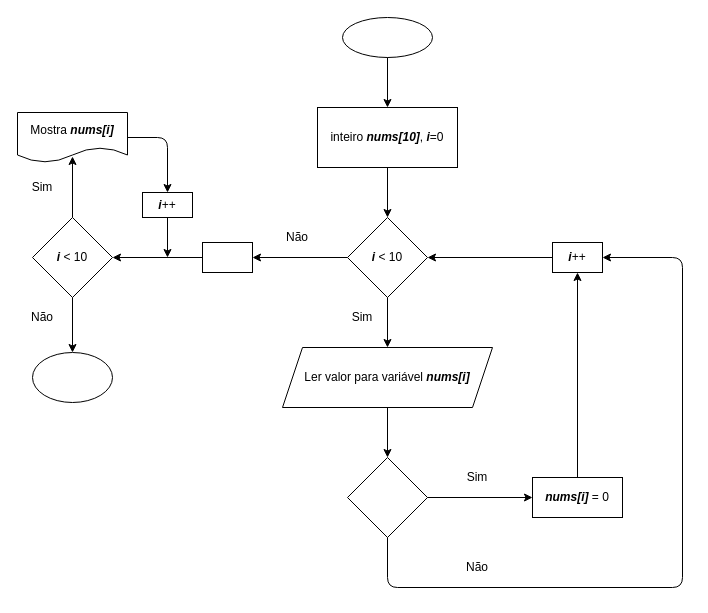
The diagram is 708 pixels wide and 613 high, and some of its shapes have lost their labels. The box of each missing label's shape, as (x1, y1, x2, y2) in pixels:
FIM: (32, 352, 112, 402)
i = 0: (202, 242, 252, 272)
INÍCIO: (342, 16, 432, 58)
nums[i] < 0: (346, 456, 428, 538)
